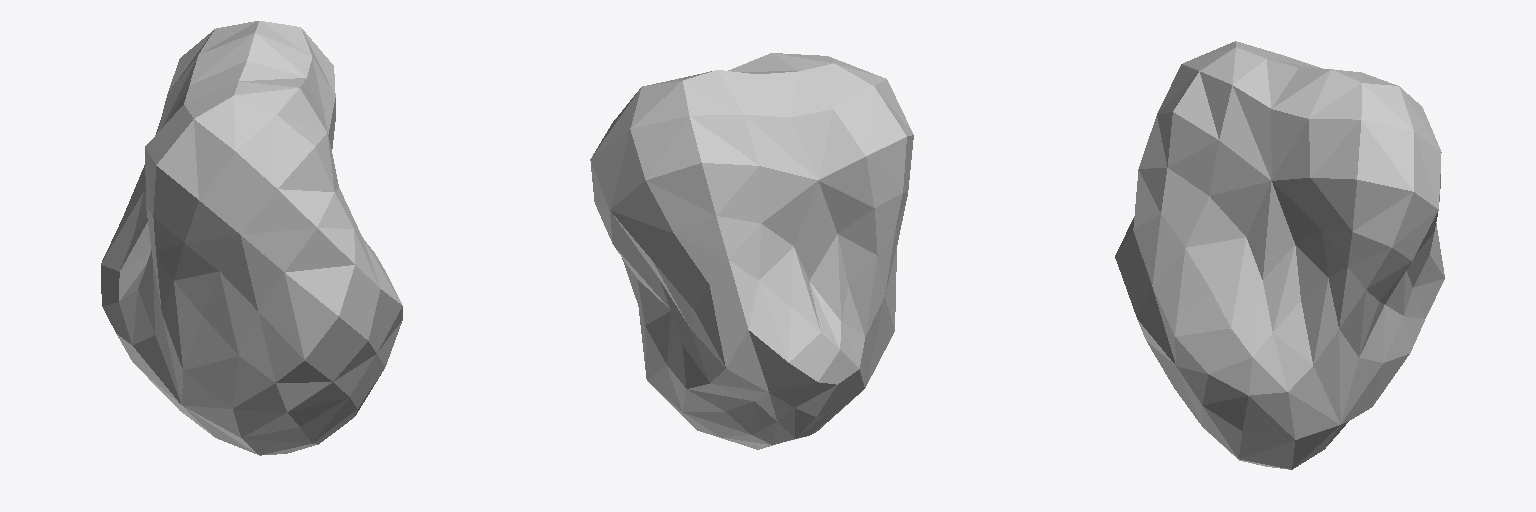
File: rock1.obj
3 renders of one model, left to right at view 1: azimuth 30°, elevation 25°; view 2: azimuth 150°, elevation 25°; view 3: azimuth 270°, elevation 25°, orthographic.
Visible parts, largest first — view 1: rock; view 2: rock; view 3: rock.
Part boxes in pixels (left/top/right/bottom): rock: left=101, top=21, right=402, bottom=455; rock: left=590, top=53, right=913, bottom=449; rock: left=1115, top=41, right=1444, bottom=469.
Size of the model in its own units: 0.8684 by 1.38 by 1.04.